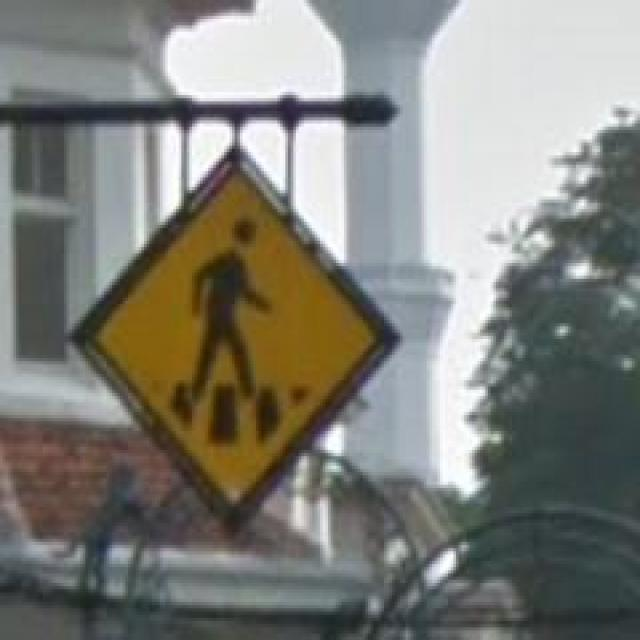traffic sign: (104, 168, 366, 485)
